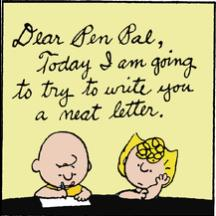charlie: (30, 130, 91, 202)
